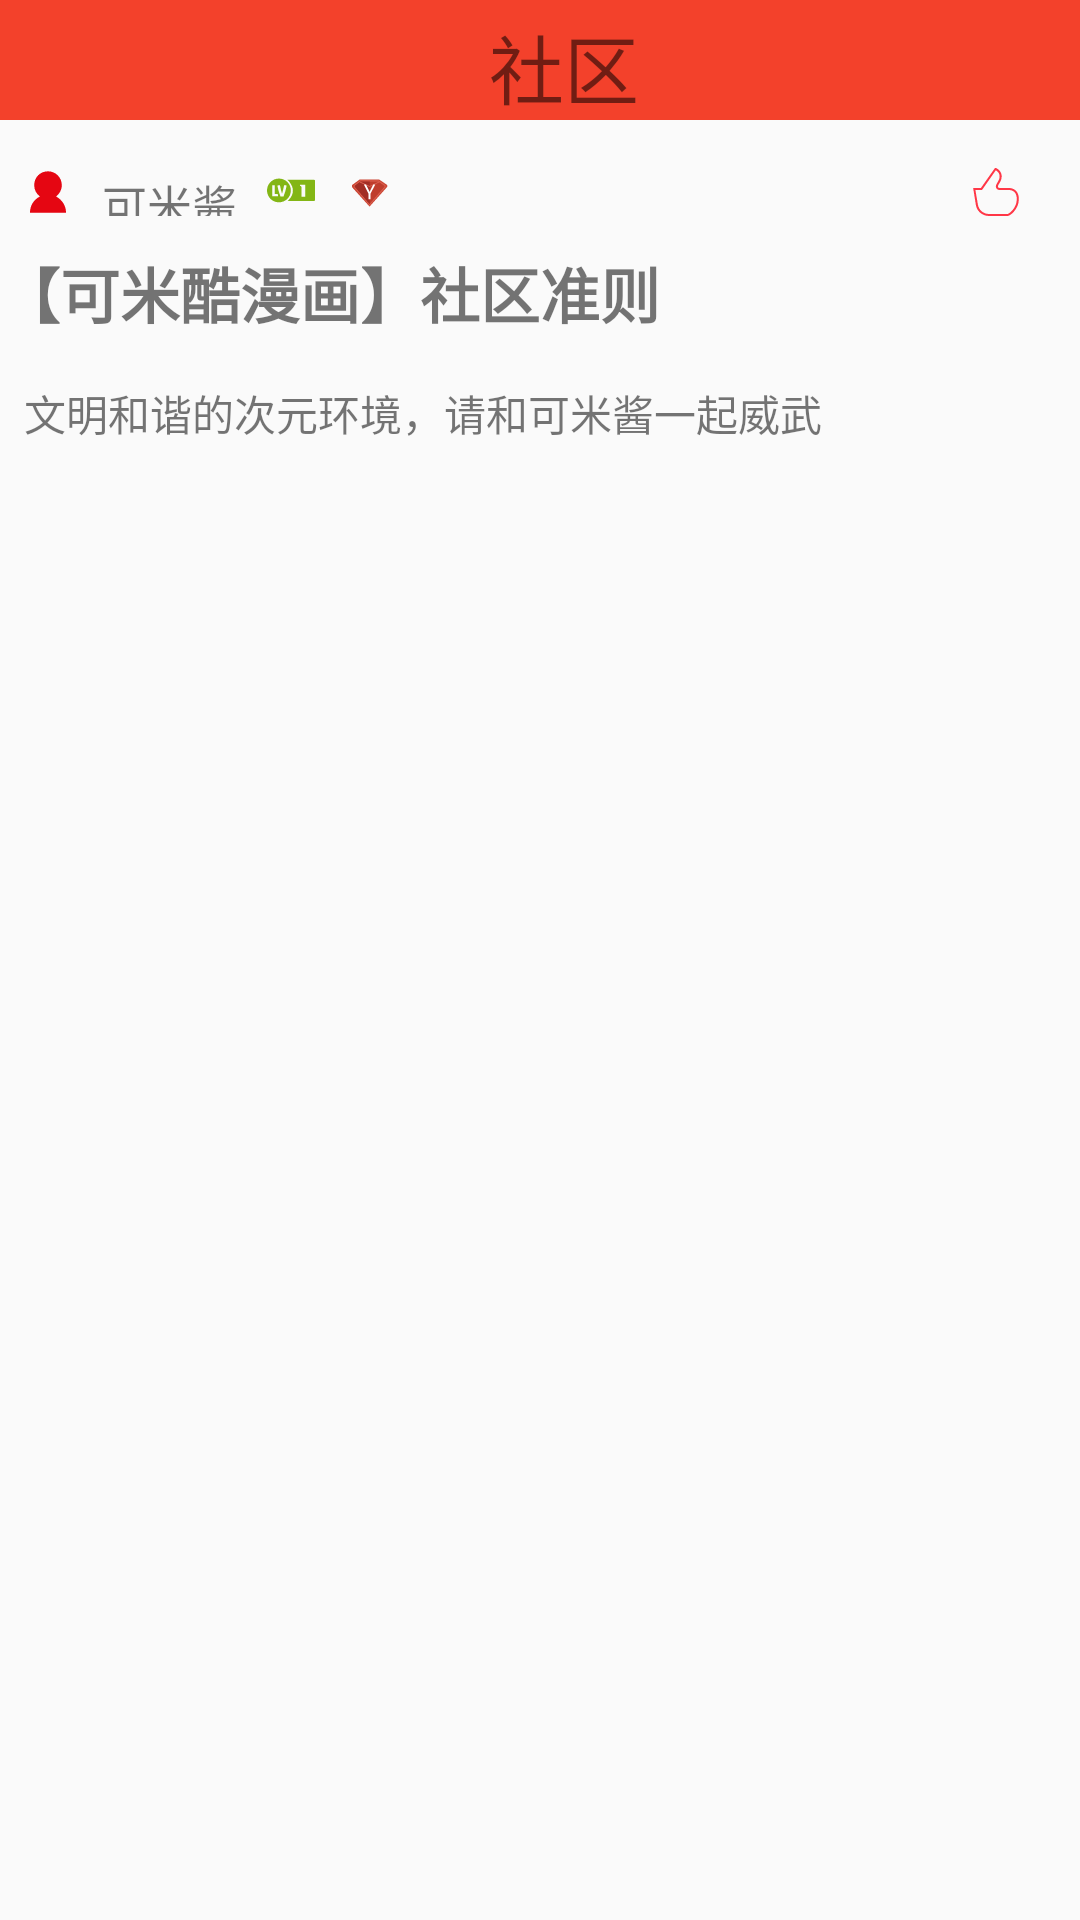

Icon bounding boxes for this 1080px x 1920px phone screenshot, format (x1, y1, x2, y2):
touxiang: (30, 171, 66, 213)
vip: (352, 179, 388, 207)
zan: (973, 168, 1019, 216)
